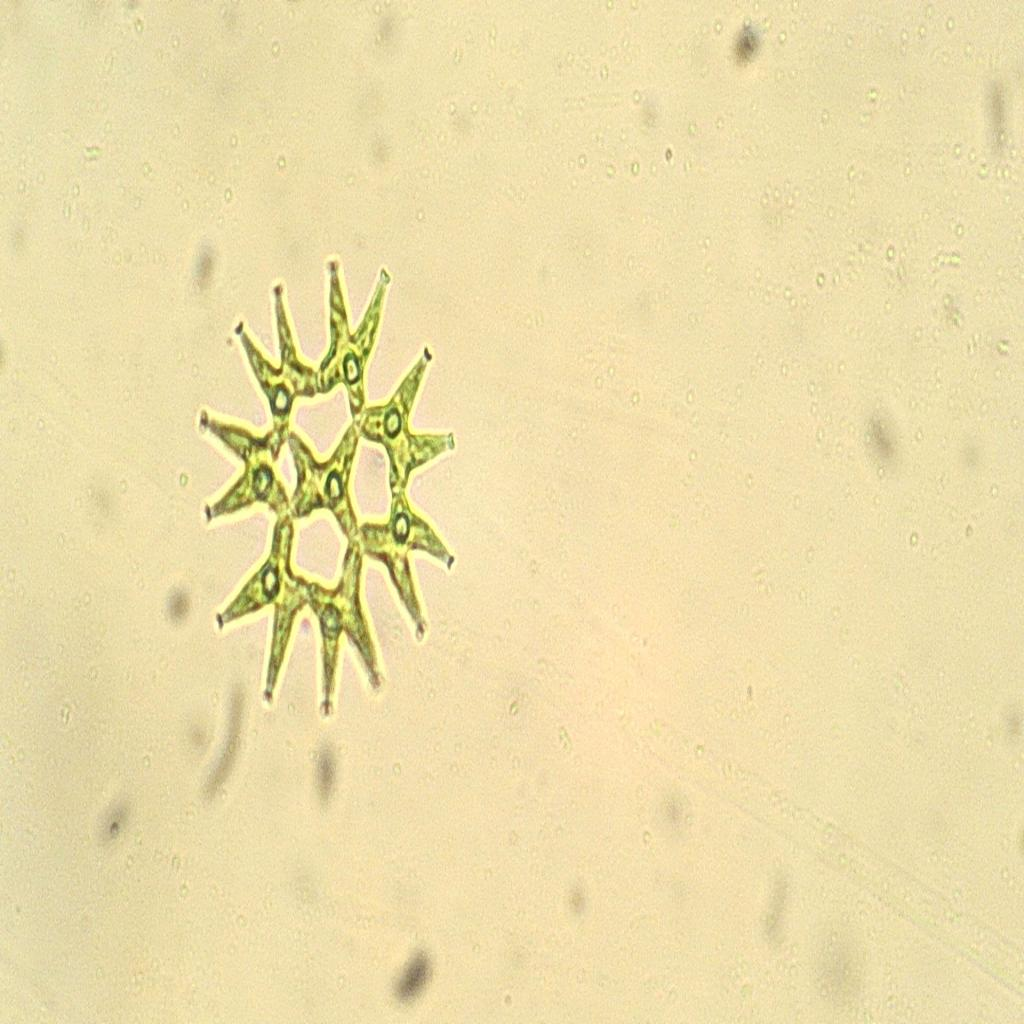Pediastrum_1T: (173, 240, 492, 733)
